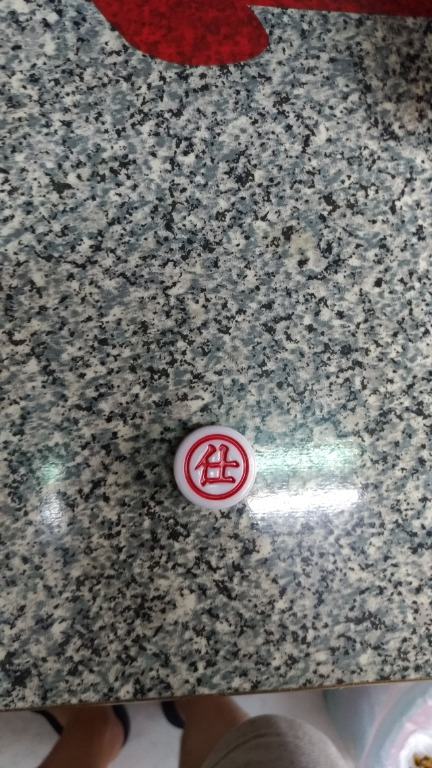r-advisor: (158, 409, 277, 522)
